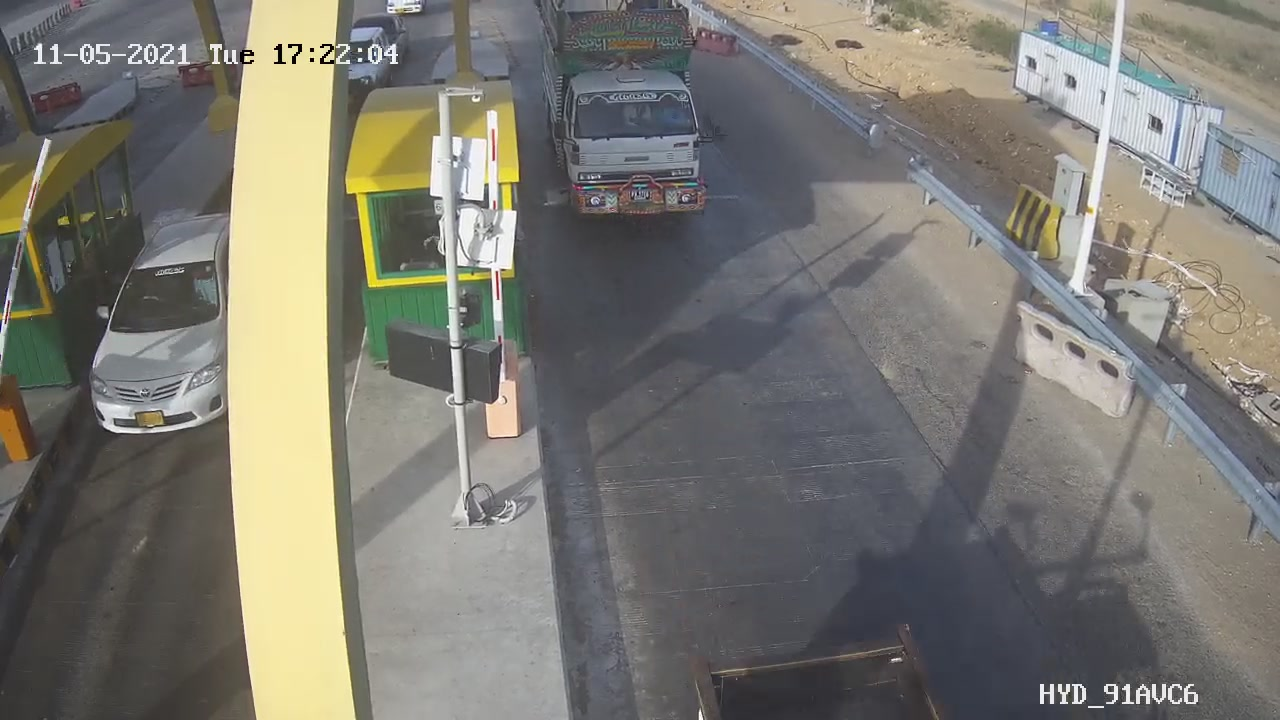F5: (530, 1, 733, 240)
